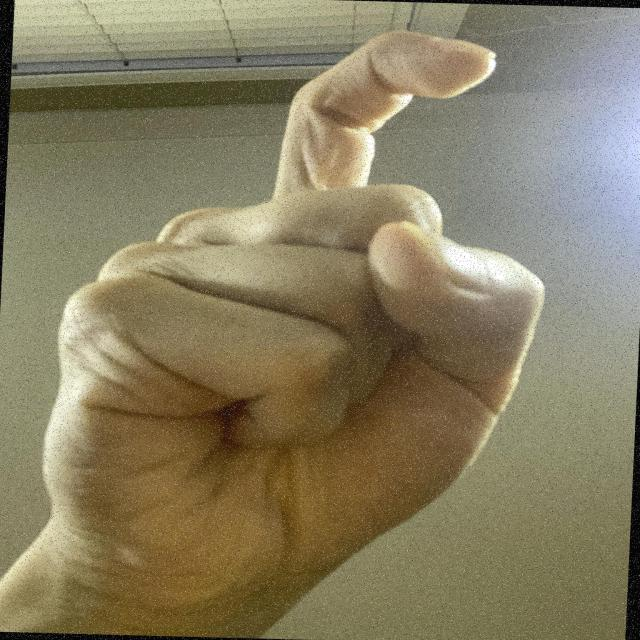X: (14, 6, 580, 640)
